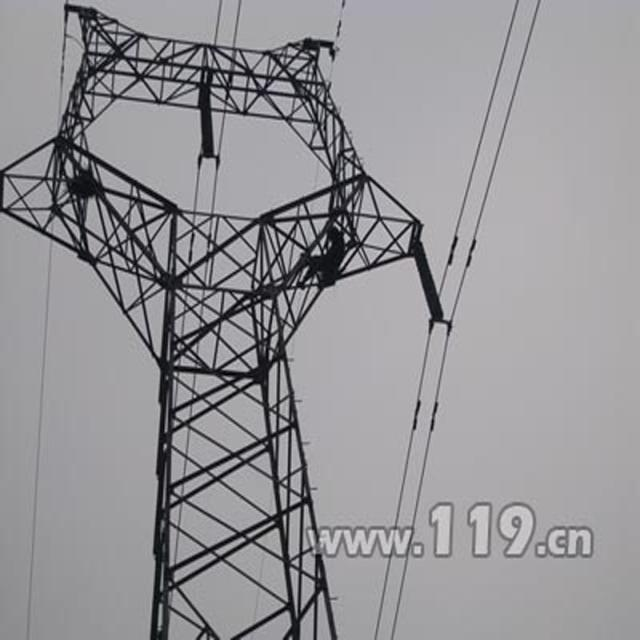non-critical vegetation: (6, 7, 458, 633)
